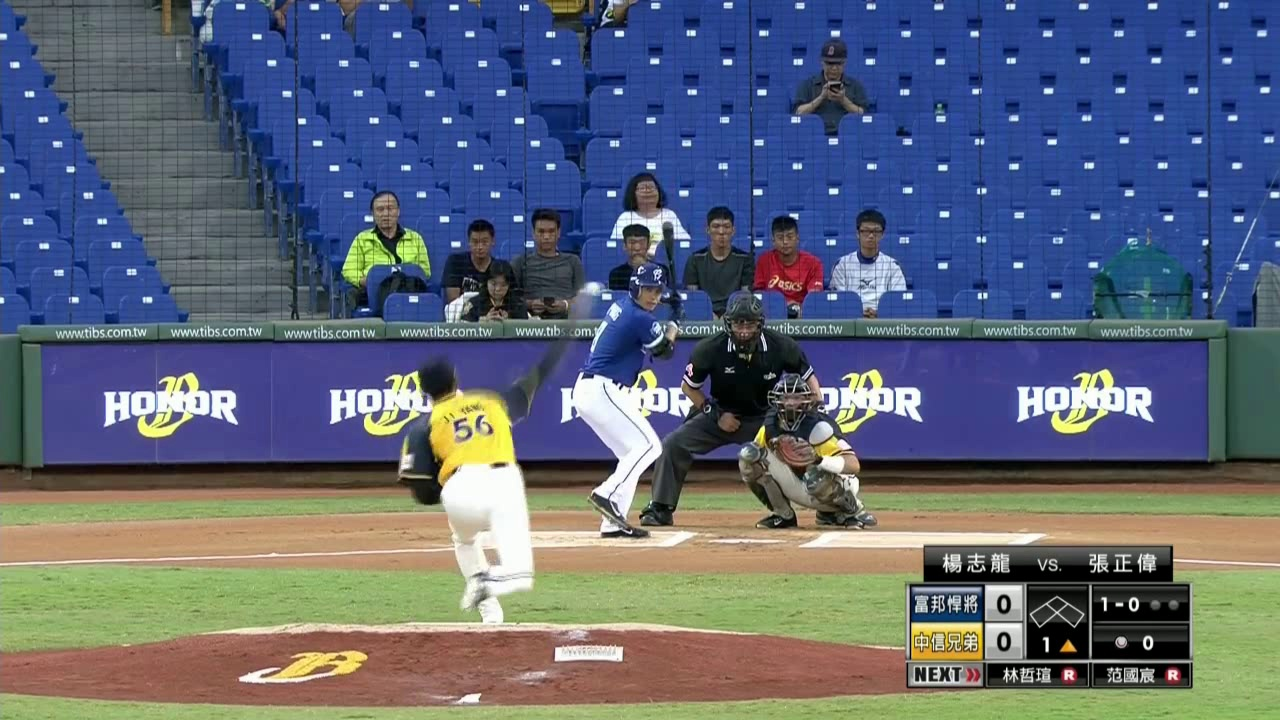ball: (585, 278, 603, 299)
base: (1028, 594, 1086, 629)
bat: (660, 216, 682, 306)
out: (1148, 596, 1181, 611)
score1: (985, 584, 1022, 620)
score2: (985, 622, 1023, 658)
session: (1039, 635, 1080, 653)
strikeball: (1099, 593, 1142, 614)
total: (1108, 631, 1159, 653)
